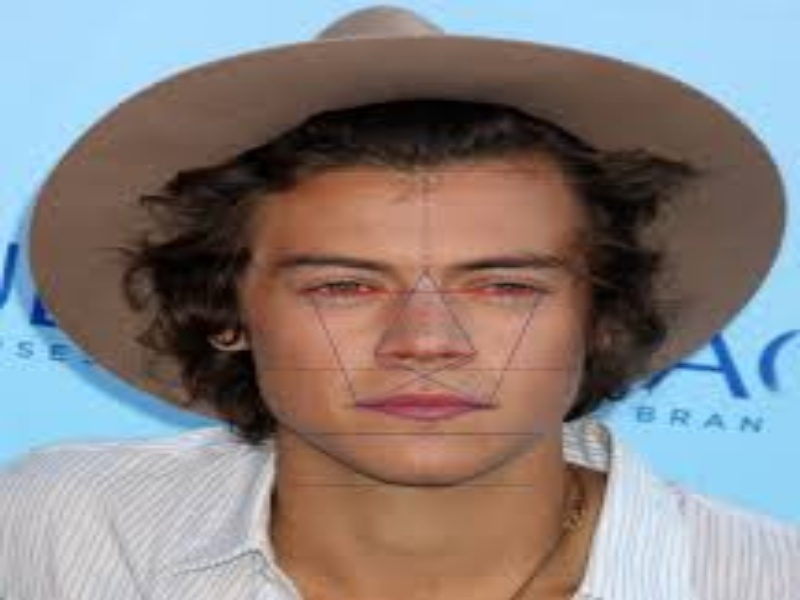face: (251, 184, 579, 447)
